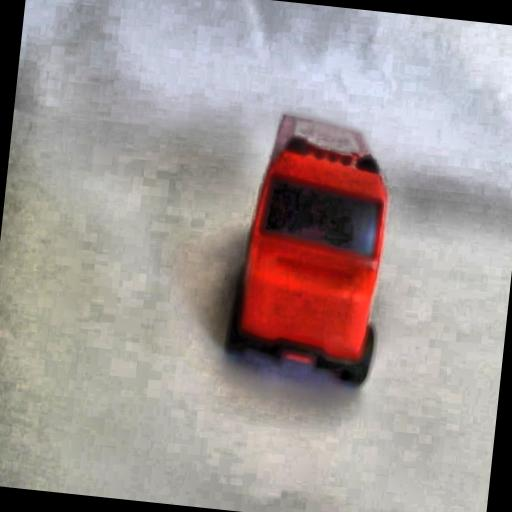fire_truck: (220, 130, 403, 390)
